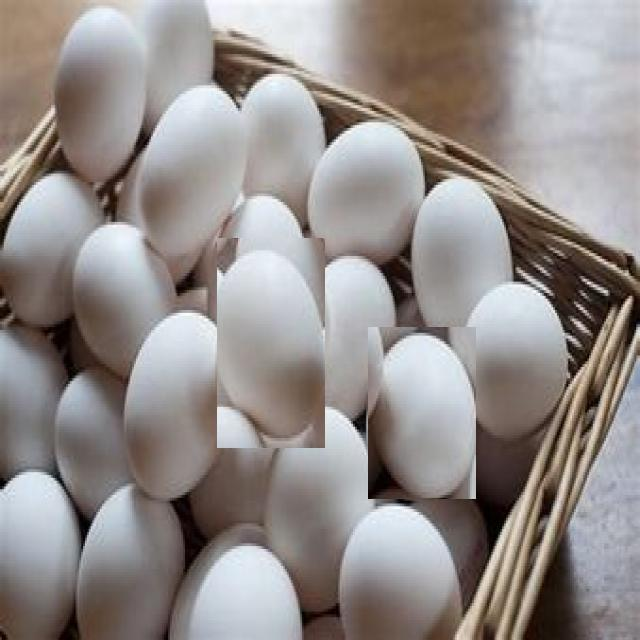Egg: (111, 294, 239, 516), (217, 238, 325, 448), (306, 106, 432, 274), (368, 327, 476, 499), (52, 10, 151, 192), (143, 78, 245, 254)
